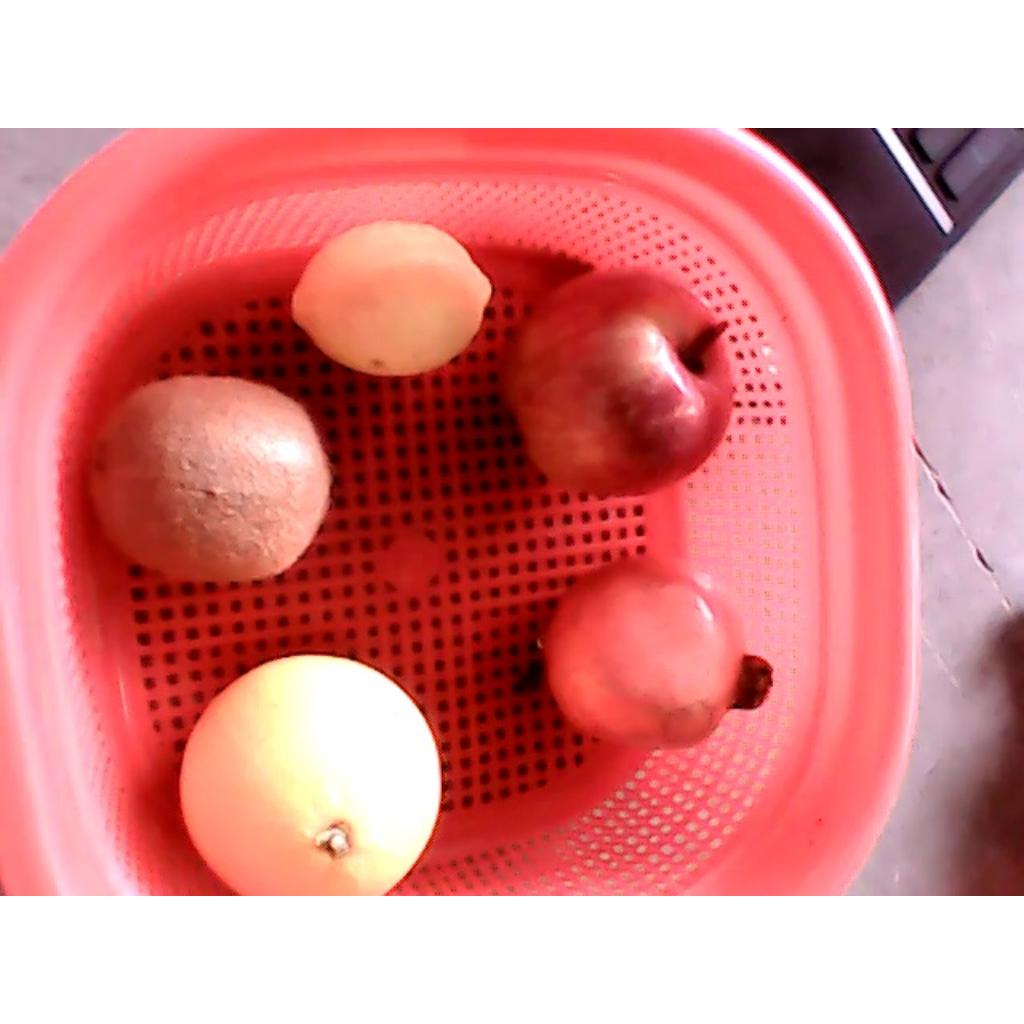apple: (500, 264, 736, 499)
kiwi: (88, 371, 331, 583)
lemon: (290, 220, 495, 377)
orange: (177, 653, 441, 894)
pomegranate: (534, 555, 773, 756)
